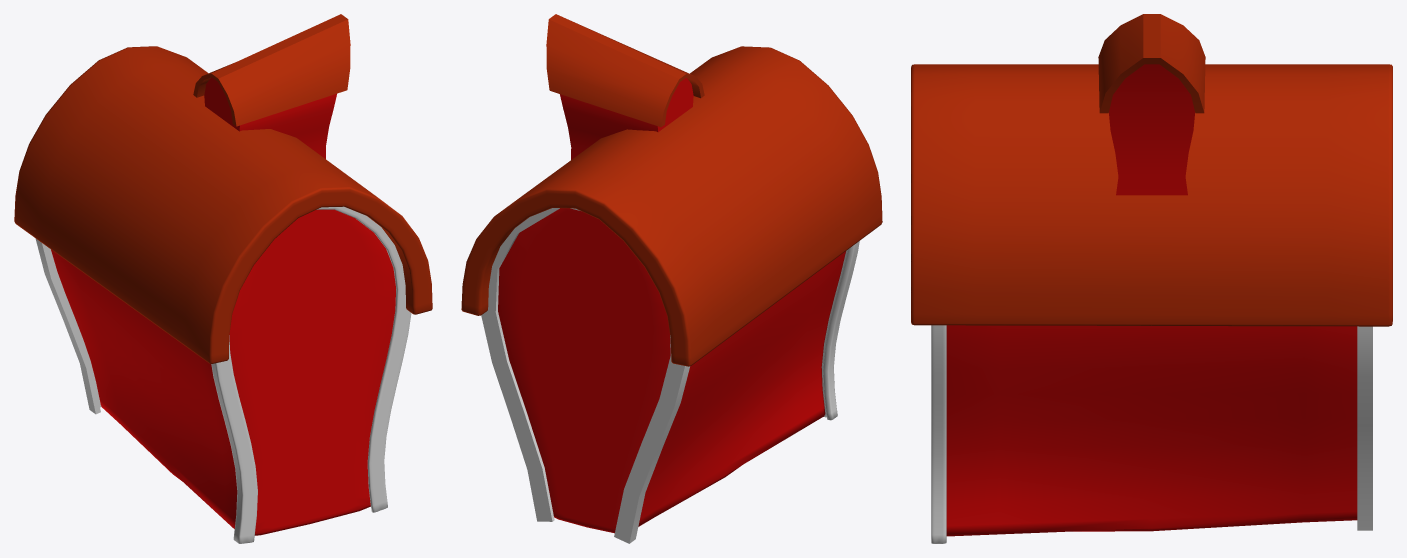
File: SM_Barn_01.FBX
3 renders of one model, left to right at view 1: azimuth 30°, elevation 25°; view 2: azimuth 150°, elevation 25°; view 3: azimuth 270°, elevation 25°, orthographic. The views are drawn at different scales.
Parts seen in each view (by area): view 1: Object002, Barn_variation0106, Object004, Object003, Barn_variation0101, Barn_variation0102; view 2: Object002, Barn_variation0106, Object004, Barn_variation0102, Barn_variation0101, Object003; view 3: Object002, Barn_variation0106, Barn_variation0101, Object004, Object003, Barn_variation0102.
Boxes of the visible parts, left/top/right/bottom form: Object002: left=14, top=46, right=432, bottom=363; Barn_variation0106: left=51, top=209, right=395, bottom=535; Object004: left=193, top=14, right=350, bottom=126; Object003: left=211, top=206, right=411, bottom=543; Barn_variation0101: left=204, top=77, right=336, bottom=158; Barn_variation0102: left=35, top=238, right=101, bottom=414; Object002: left=461, top=46, right=882, bottom=366; Barn_variation0106: left=498, top=208, right=845, bottom=533; Object004: left=546, top=14, right=704, bottom=126; Barn_variation0102: left=481, top=208, right=689, bottom=543; Barn_variation0101: left=560, top=78, right=693, bottom=159; Object003: left=821, top=241, right=859, bottom=420; Object002: left=911, top=64, right=1392, bottom=326; Barn_variation0106: left=946, top=325, right=1357, bottom=536; Barn_variation0101: left=1109, top=64, right=1194, bottom=195; Object004: left=1098, top=14, right=1205, bottom=113; Object003: left=931, top=325, right=946, bottom=543; Barn_variation0102: left=1357, top=326, right=1372, bottom=530.
Size of the model in its own units: 22.57 by 38.54 by 32.52.
